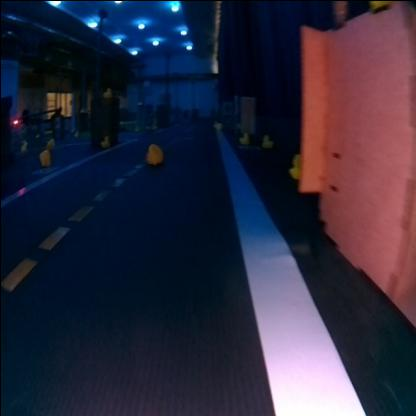Duckie: (145, 142, 162, 164), (38, 149, 48, 163), (98, 134, 108, 146), (238, 132, 246, 144), (263, 134, 271, 146), (102, 86, 111, 94)
